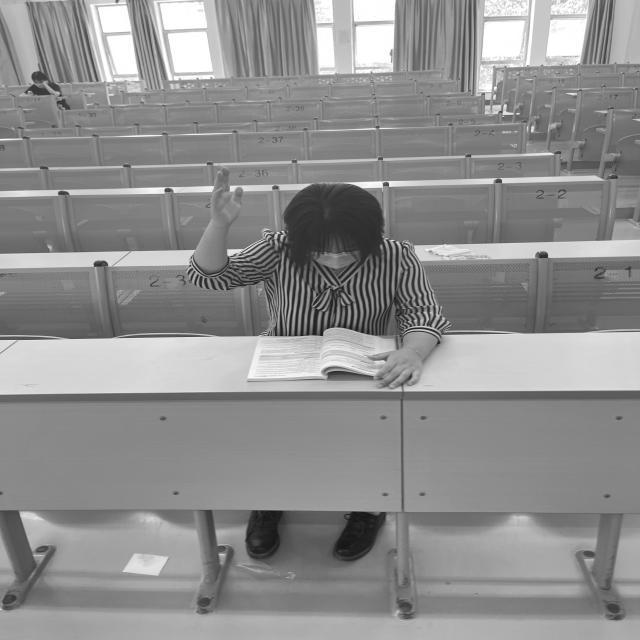study: (188, 166, 451, 387)
